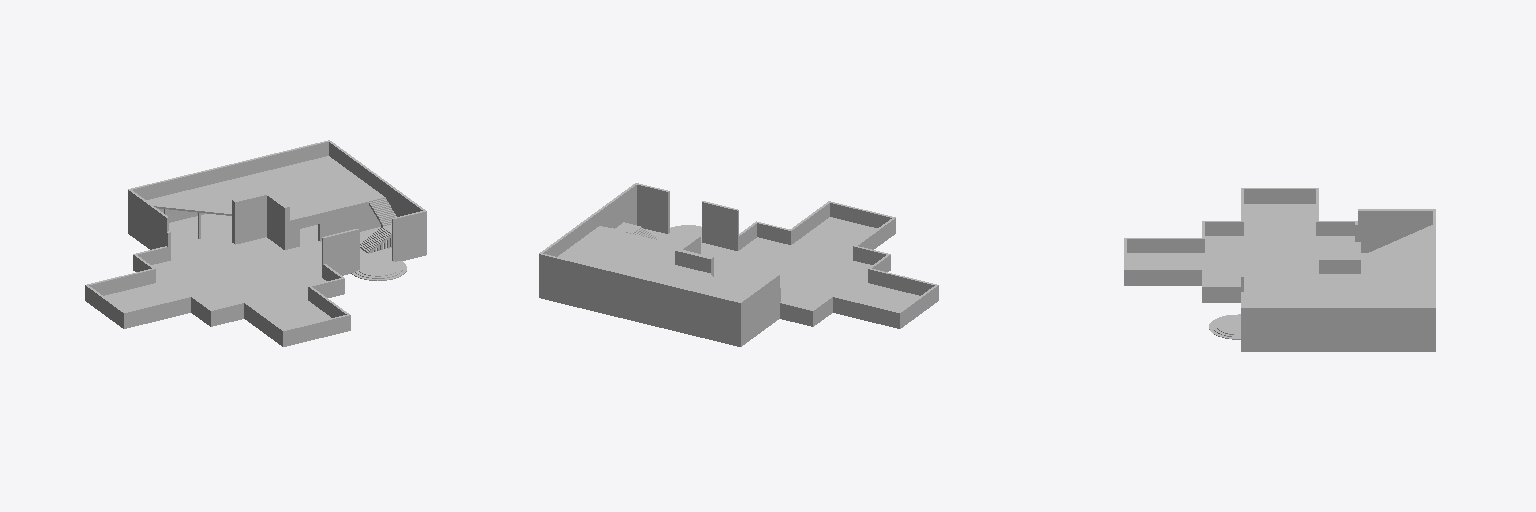
Rendered from Newcomers_Guild_Attempt_2.obj.
3 views of the same model, side by side, from view 1: azimuth 30°, elevation 25°; view 2: azimuth 150°, elevation 25°; view 3: azimuth 270°, elevation 25° (orthographic).
Parts seen in each view (by area): view 1: SketchUp; view 2: SketchUp; view 3: SketchUp.
Boxes of the visible parts, x1,y1,x2,y2 form: SketchUp: [85, 140, 426, 346]; SketchUp: [539, 183, 938, 346]; SketchUp: [1124, 188, 1435, 351].
Size of the model in its own units: 90 by 12.5 by 80.